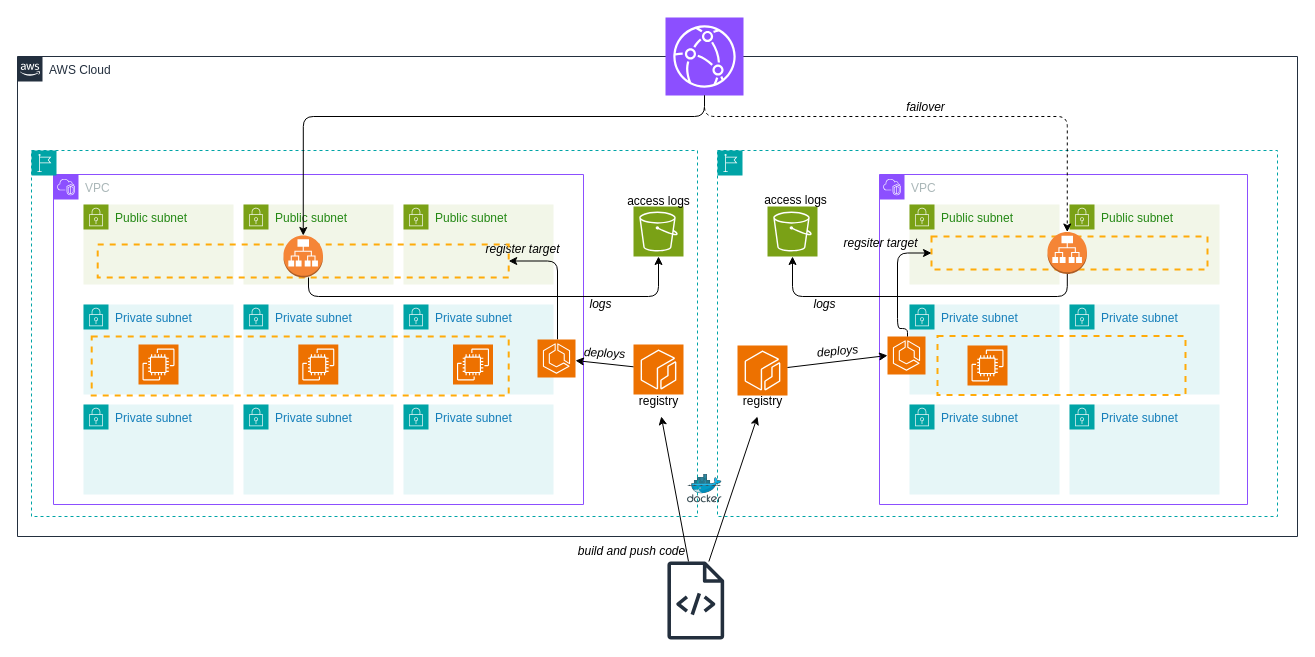
This 1315x657 diagram has some shape labels left out. Each missing label, with the box of its shape:
eu-west-1: (30, 150, 698, 516)
us-east-1: (716, 150, 1278, 516)
